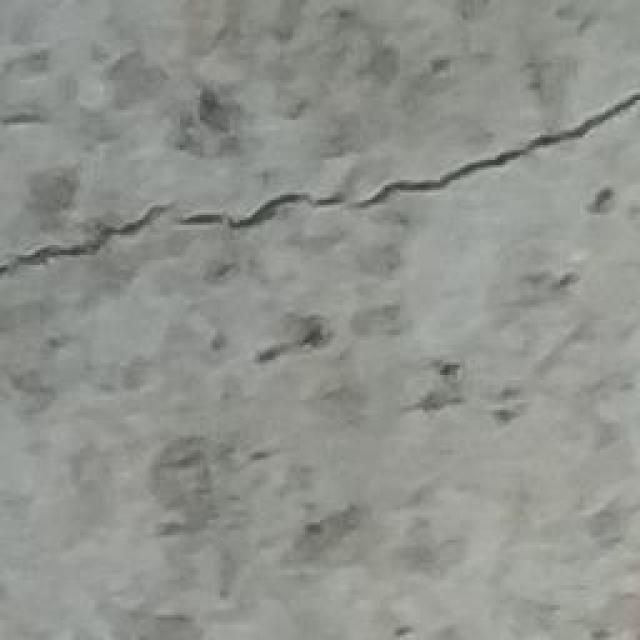Diagonal: (10, 90, 640, 298)
